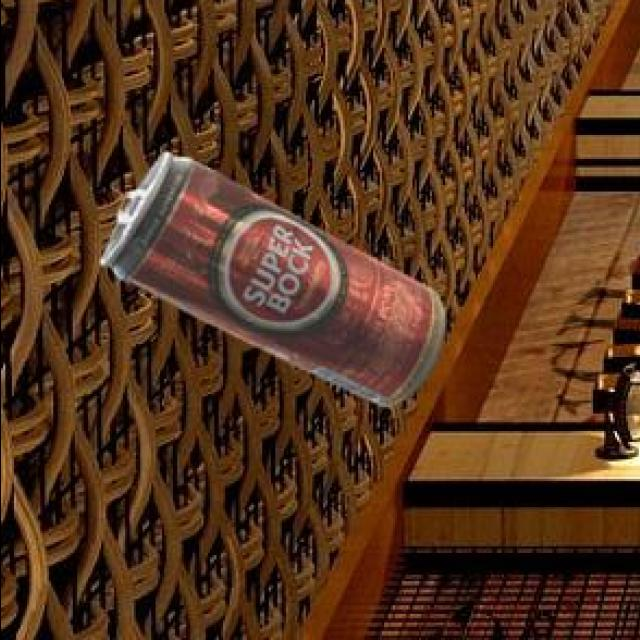logam: (97, 156, 441, 410)
